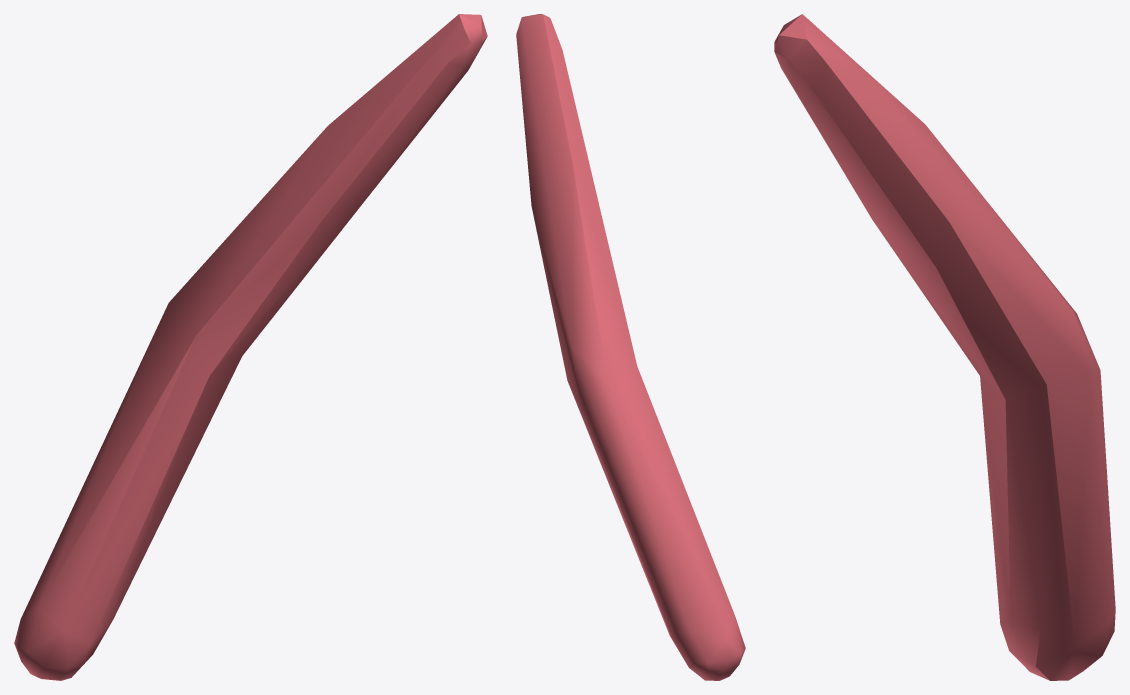
File: fma8661_fj6094.glb
The picture shows the model from 3 angles, left to right: view 1: azimuth 30°, elevation 25°; view 2: azimuth 150°, elevation 25°; view 3: azimuth 270°, elevation 25°; orthographic projection. The views are drawn at different scales.
Visible parts, largest first — view 1: FMA8661_FJ6094; view 2: FMA8661_FJ6094; view 3: FMA8661_FJ6094.
Boxes of the visible parts, <box> form: FMA8661_FJ6094: <box>14,14,487,680</box>; FMA8661_FJ6094: <box>516,14,745,680</box>; FMA8661_FJ6094: <box>774,14,1115,680</box>.
Bounding box in the file's own units: 0.0118 × 0.0204 × 0.00738.
